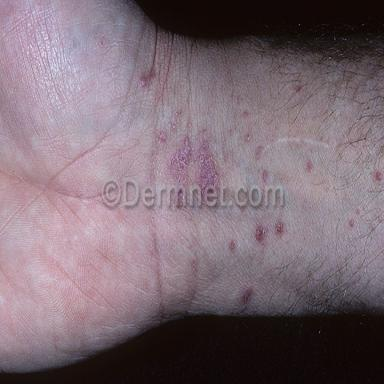lichen: (169, 136, 193, 185), (197, 140, 219, 191)
